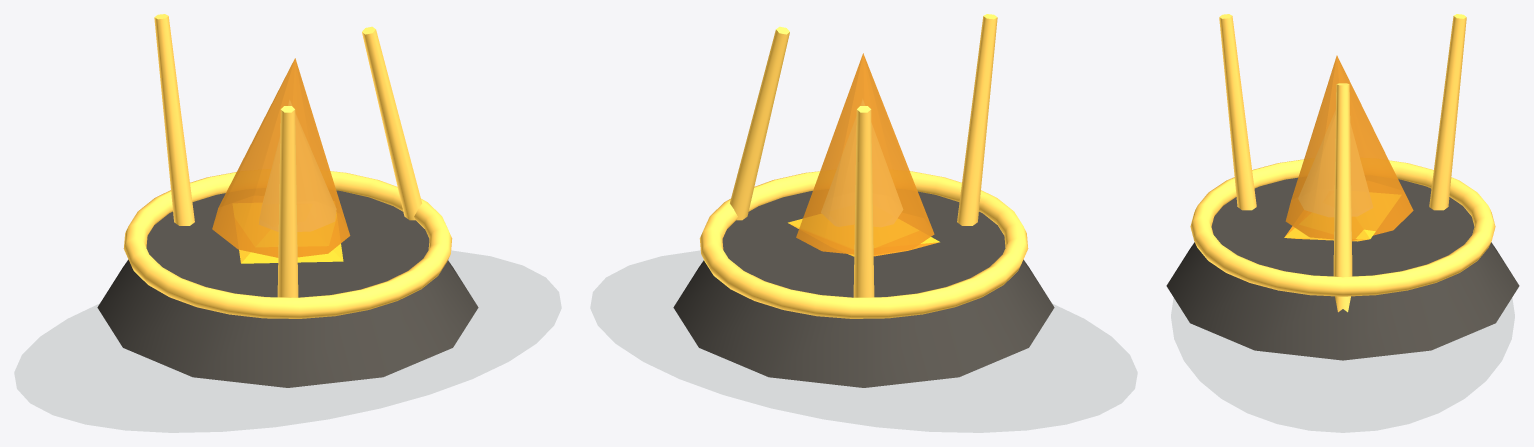
File: sacred_fire.glb
The picture shows the model from 3 angles, left to right: view 1: azimuth 30°, elevation 25°; view 2: azimuth 150°, elevation 25°; view 3: azimuth 270°, elevation 25°; orthographic projection. The views are drawn at different scales.
Visible parts, largest first — view 1: sacred_fire_basin, soft_ground_shadow, sacred_fire_flame_outer, sacred_fire_rim, sacred_fire_tripod_2, sacred_fire_flame_inner, sacred_fire_tripod_1, sacred_fire_tripod_0, sacred_fire_ember_bed; view 2: sacred_fire_basin, soft_ground_shadow, sacred_fire_rim, sacred_fire_flame_outer, sacred_fire_tripod_1, sacred_fire_flame_inner, sacred_fire_tripod_2, sacred_fire_tripod_0, sacred_fire_ember_bed; view 3: sacred_fire_basin, soft_ground_shadow, sacred_fire_rim, sacred_fire_flame_outer, sacred_fire_tripod_0, sacred_fire_tripod_1, sacred_fire_tripod_2, sacred_fire_flame_inner, sacred_fire_ember_bed.
Boxes of the visible parts, x1,y1,x2,y2 form: sacred_fire_basin: [97, 190, 478, 387]; soft_ground_shadow: [15, 251, 560, 432]; sacred_fire_flame_outer: [212, 58, 350, 257]; sacred_fire_rim: [123, 171, 452, 318]; sacred_fire_tripod_2: [154, 14, 194, 225]; sacred_fire_flame_inner: [259, 100, 336, 231]; sacred_fire_tripod_1: [277, 106, 298, 297]; sacred_fire_tripod_0: [362, 26, 421, 220]; sacred_fire_ember_bed: [233, 203, 343, 263]; sacred_fire_basin: [673, 191, 1054, 387]; soft_ground_shadow: [591, 251, 1136, 432]; sacred_fire_rim: [699, 171, 1028, 318]; sacred_fire_flame_outer: [796, 53, 934, 254]; sacred_fire_tripod_1: [957, 14, 997, 225]; sacred_fire_flame_inner: [821, 100, 902, 226]; sacred_fire_tripod_2: [853, 106, 874, 297]; sacred_fire_tripod_0: [730, 26, 789, 220]; sacred_fire_ember_bed: [788, 214, 939, 256]; sacred_fire_basin: [1166, 177, 1519, 360]; soft_ground_shadow: [1171, 301, 1514, 432]; sacred_fire_rim: [1190, 159, 1495, 296]; sacred_fire_flame_outer: [1285, 55, 1413, 240]; sacred_fire_tripod_0: [1333, 83, 1352, 312]; sacred_fire_tripod_1: [1219, 14, 1256, 210]; sacred_fire_tripod_2: [1429, 14, 1466, 210]; sacred_fire_flame_inner: [1298, 111, 1372, 216]; sacred_fire_ember_bed: [1284, 192, 1400, 241].
Size of the model in its own units: 2.87 by 1.56 by 1.84.
